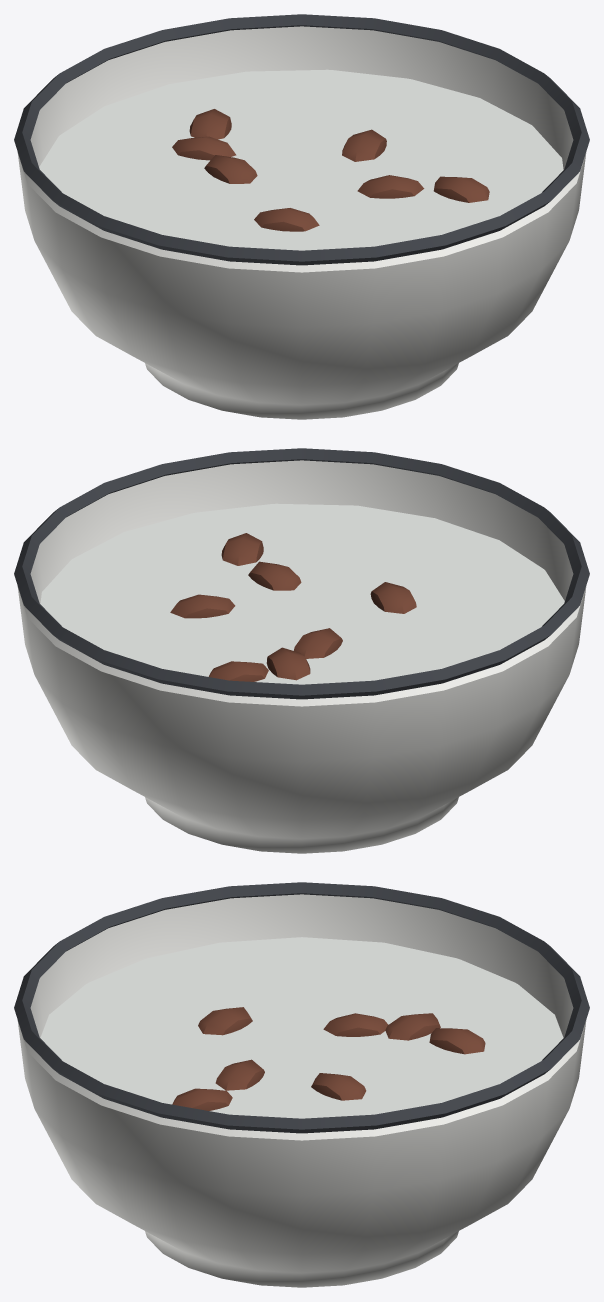
File: cook_soaked_beans.glb
3 views of the same model, one above another, from view 1: azimuth 30°, elevation 25°; view 2: azimuth 150°, elevation 25°; view 3: azimuth 270°, elevation 25° (orthographic).
Visible parts, largest first — view 1: body; view 2: body; view 3: body.
Part boxes in pixels (bbox=[...]): body: bbox=[14, 14, 589, 419]; body: bbox=[14, 448, 589, 853]; body: bbox=[14, 882, 589, 1287].
Bounding box in the file's own units: 0.0628 × 0.0264 × 0.0628.
